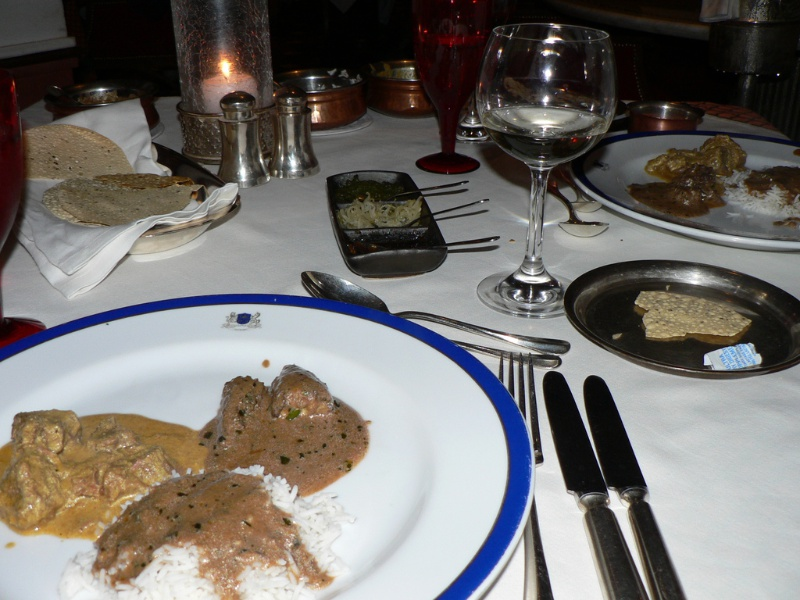knife: (544, 367, 692, 600)
